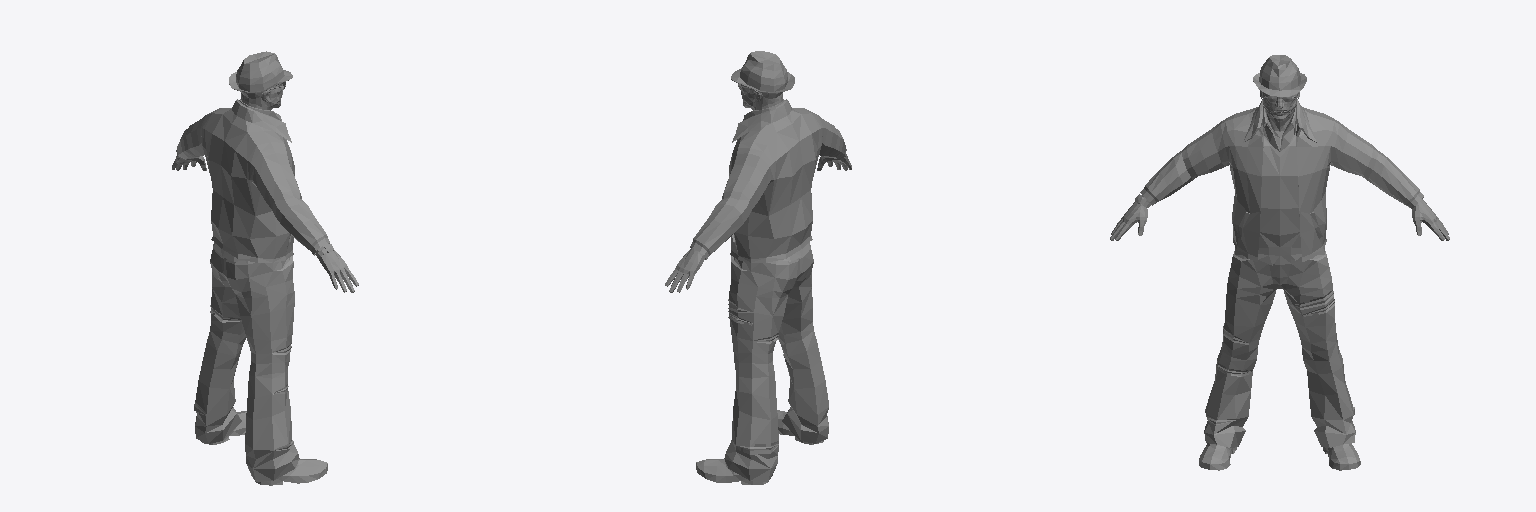
File: LondonersGangSoldier.obj
3 views of the same model, side by side, from view 1: azimuth 30°, elevation 25°; view 2: azimuth 150°, elevation 25°; view 3: azimuth 270°, elevation 25° (orthographic).
Visible parts, largest first — view 1: CH_MNPCLondonersGangSoldier1; view 2: CH_MNPCLondonersGangSoldier1; view 3: CH_MNPCLondonersGangSoldier1.
Part boxes in pixels (x1,y1,x2,y2): CH_MNPCLondonersGangSoldier1: (172, 51, 358, 485); CH_MNPCLondonersGangSoldier1: (665, 51, 851, 484); CH_MNPCLondonersGangSoldier1: (1110, 55, 1449, 470).
Bounding box in the file's own units: 18 × 91.07 × 70.3.